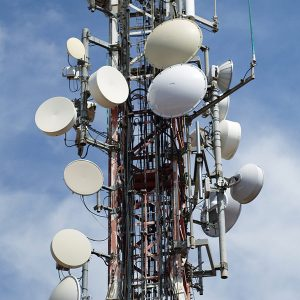b: (145, 21, 202, 67), (34, 95, 78, 137), (88, 65, 130, 107), (51, 229, 92, 268), (64, 159, 104, 196), (230, 164, 265, 203), (217, 120, 243, 160), (212, 59, 234, 92), (67, 37, 85, 60)
